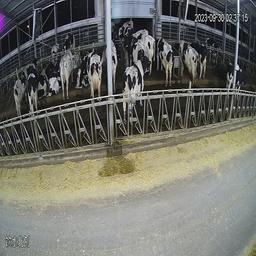cow: (121, 55, 152, 127), (75, 51, 102, 103), (175, 39, 199, 87), (155, 32, 174, 88), (225, 59, 248, 103), (12, 65, 31, 118), (103, 37, 120, 95), (26, 54, 39, 120), (121, 34, 145, 69), (59, 48, 74, 102), (190, 42, 209, 82), (36, 56, 52, 102), (138, 32, 155, 72), (205, 35, 222, 62), (47, 70, 62, 97), (118, 18, 135, 38), (64, 31, 76, 56), (50, 40, 60, 67)
